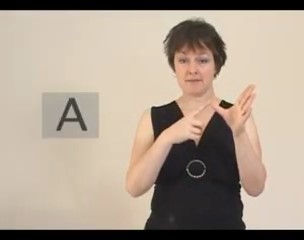A: (165, 80, 266, 149)
